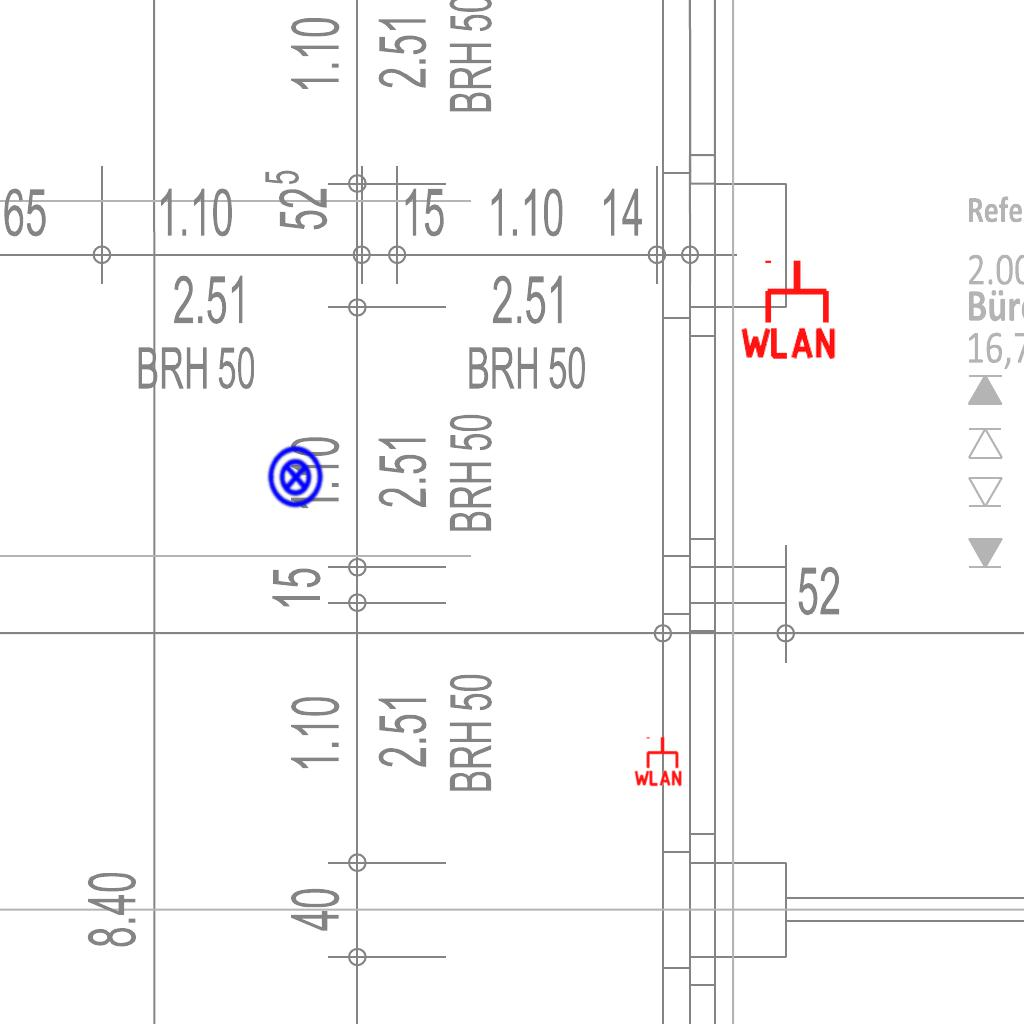Taster_beleuchtet: (263, 444, 329, 510)
WLAN: (736, 256, 840, 361), (632, 735, 684, 787)
